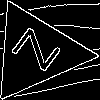Z: (10, 27, 72, 78)
